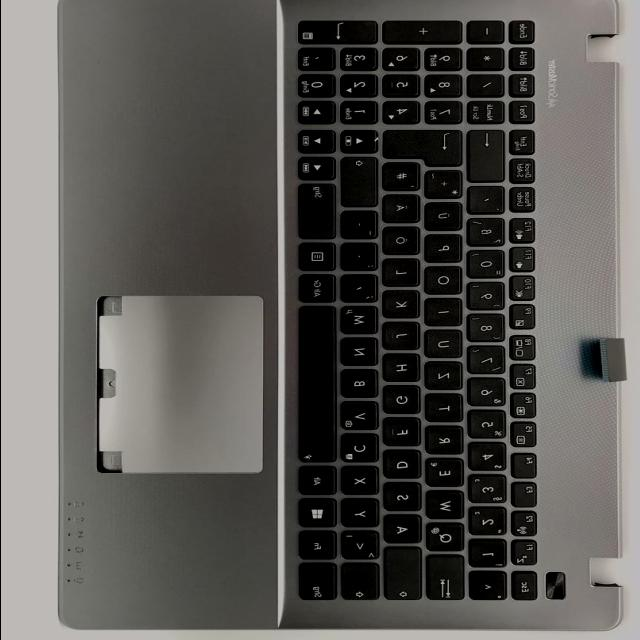0: (468, 251, 506, 280)
1: (470, 540, 508, 569)
2: (470, 508, 508, 538)
3: (470, 476, 508, 506)
4: (469, 444, 508, 473)
5: (470, 411, 508, 441)
6: (469, 379, 508, 409)
7: (469, 347, 507, 375)
8: (468, 315, 507, 344)
9: (468, 283, 507, 312)
a: (385, 516, 424, 545)
accent: (469, 188, 507, 216)
ae: (383, 195, 422, 224)
alt-left: (299, 468, 338, 497)
altgr-right: (300, 275, 338, 305)
b: (342, 370, 380, 400)
c: (342, 435, 381, 465)
caret: (470, 573, 509, 603)
comma: (342, 276, 380, 304)
d: (385, 451, 423, 481)
del: (468, 132, 508, 184)
e: (427, 459, 466, 489)
enter: (385, 132, 465, 168)
f: (384, 419, 423, 447)
g: (385, 386, 423, 416)
h: (384, 355, 422, 383)
hash: (383, 163, 422, 193)
i: (426, 300, 465, 328)
j: (384, 324, 423, 352)
k: (384, 291, 422, 320)
keyboard: (287, 9, 547, 611)
l: (384, 260, 422, 288)
less: (342, 532, 381, 562)
m: (341, 306, 380, 336)
minus: (341, 212, 379, 242)
n: (342, 338, 380, 368)
o: (426, 267, 465, 296)
oe: (383, 227, 422, 256)
p: (426, 236, 464, 264)
plus: (426, 172, 465, 200)
point: (341, 244, 379, 273)
q: (427, 523, 467, 554)
r: (427, 427, 466, 456)
s: (385, 484, 424, 513)
shift-left: (342, 565, 382, 603)
shift-lock: (385, 549, 424, 603)
shift-right: (342, 157, 380, 209)
space: (299, 307, 338, 465)
ss: (468, 220, 506, 248)
strg-left: (300, 564, 339, 604)
strg-right: (300, 183, 338, 240)
t: (427, 395, 465, 424)
tab: (427, 557, 467, 603)
u: (426, 330, 465, 359)
ue: (426, 204, 464, 233)
v: (342, 402, 380, 432)
w: (427, 492, 466, 521)
x: (343, 468, 381, 497)
y: (342, 500, 382, 529)
z: (426, 363, 465, 392)
